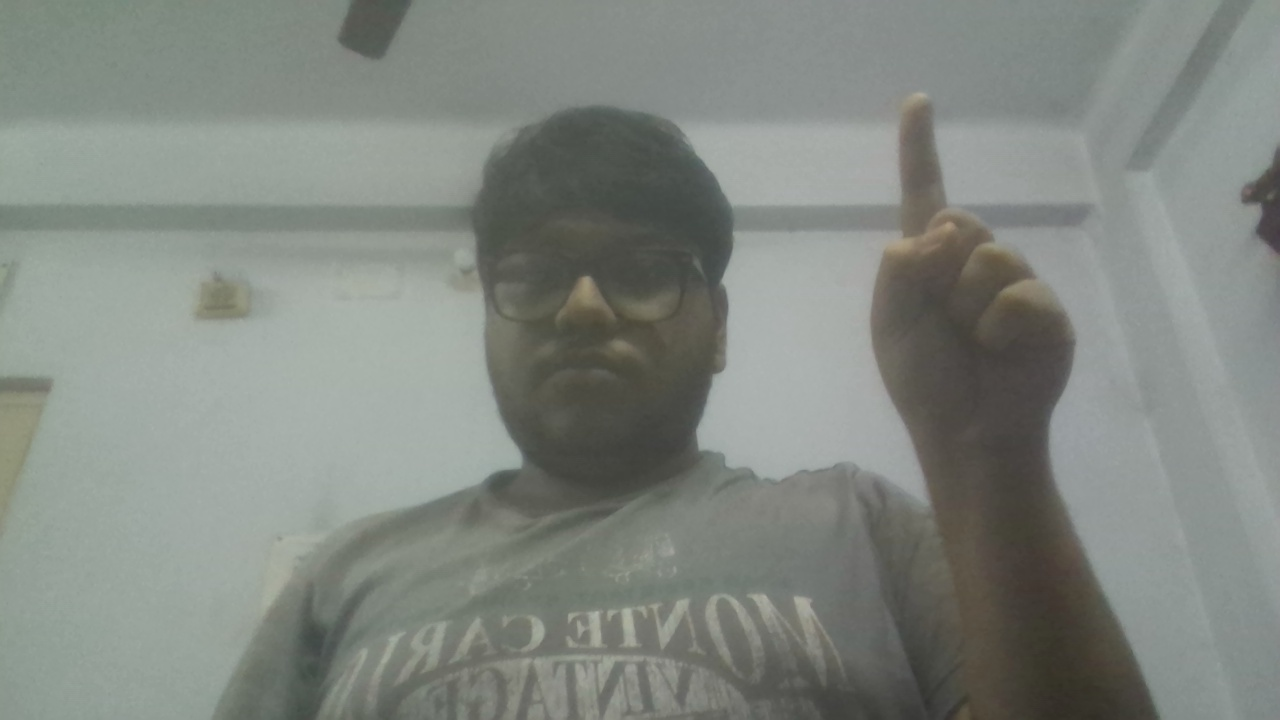Gesture1: (857, 77, 1088, 476)
